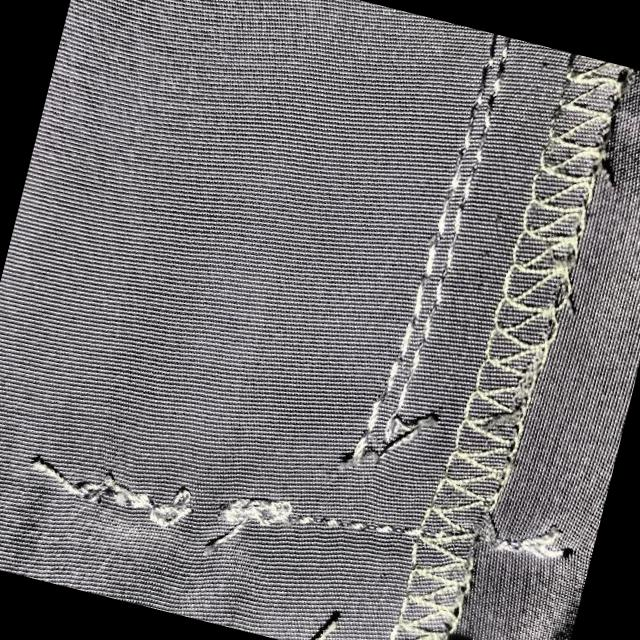gray stitch: (280, 366, 428, 593), (130, 438, 294, 578)
